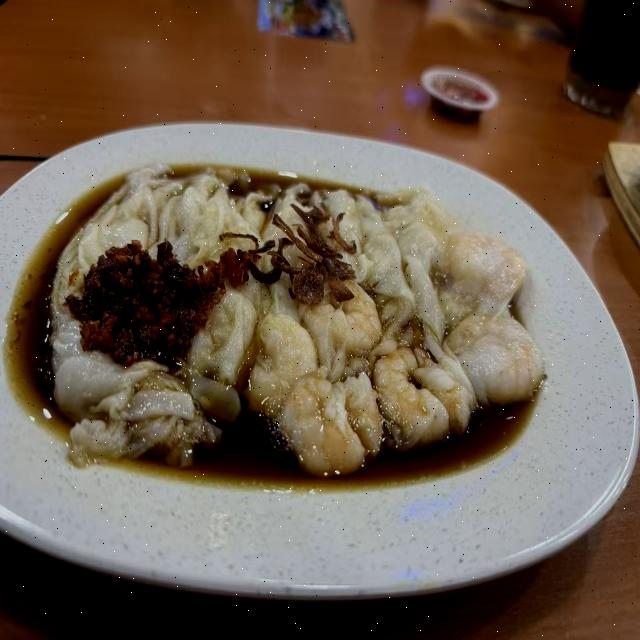Chee Cheong Fun: (22, 146, 560, 524)
